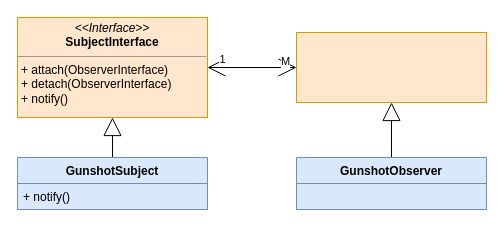
This 504x230 diagram has some shape labels left out. The centre of each missing label's shape, as x and y in pixels:
+ update(SubjectInterface): (391,196)
<<Interface>> ObserverInterface + update(SubjectInterface): (391,67)
